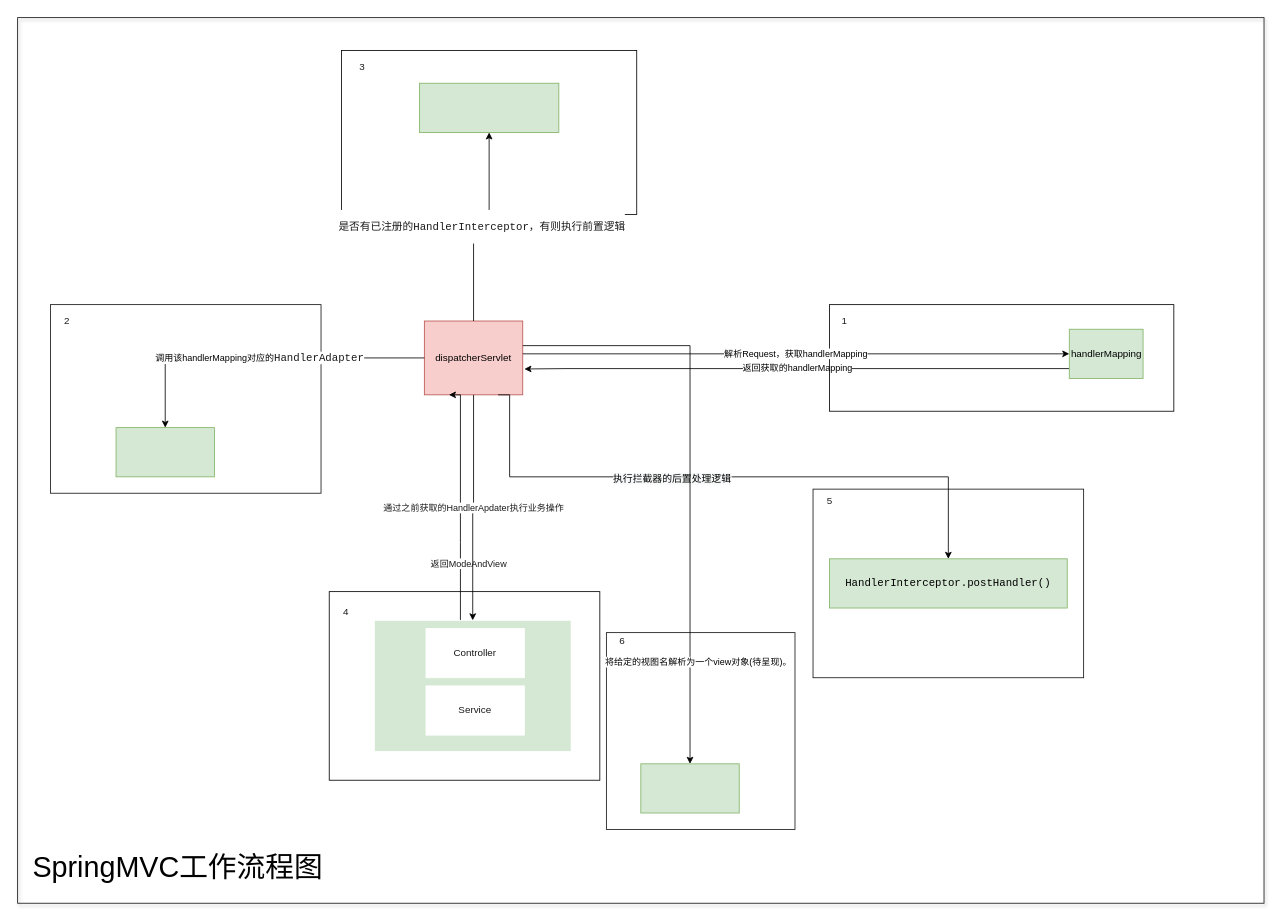
Some shapes in this 1283 by 923 pixel diagram are drawn without their labels. The centre of each missing label's shape, as x and y in pixels:
HandlerApdater: the point at 164,452
HandlerInterceptors: the point at 489,107
ViewResolvers: the point at 689,788
